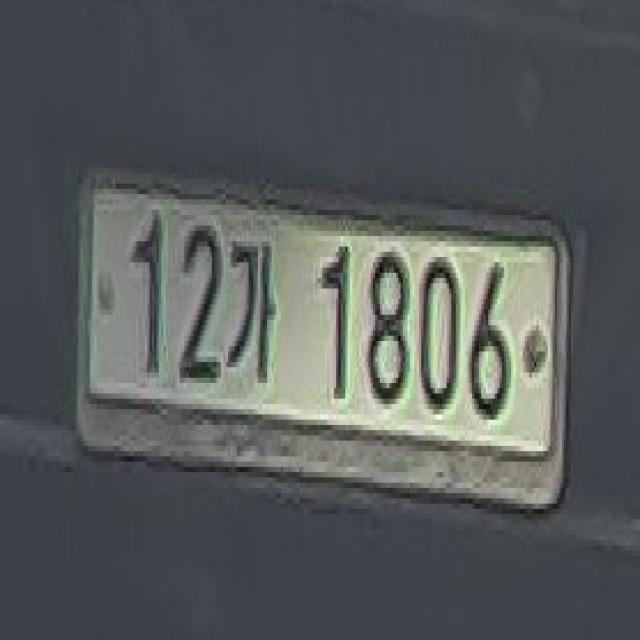0: (417, 252, 462, 430)
1: (124, 199, 175, 399), (313, 231, 359, 414)
2: (177, 210, 226, 404)
6: (465, 257, 518, 430)
8: (366, 241, 414, 425)
ga: (223, 226, 281, 404)
license_plate: (71, 147, 574, 524)
